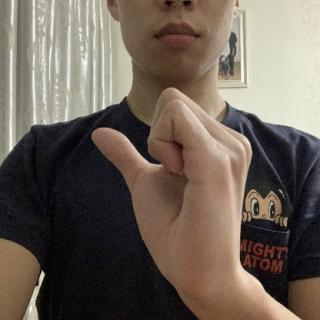WAW: (86, 80, 265, 308)
